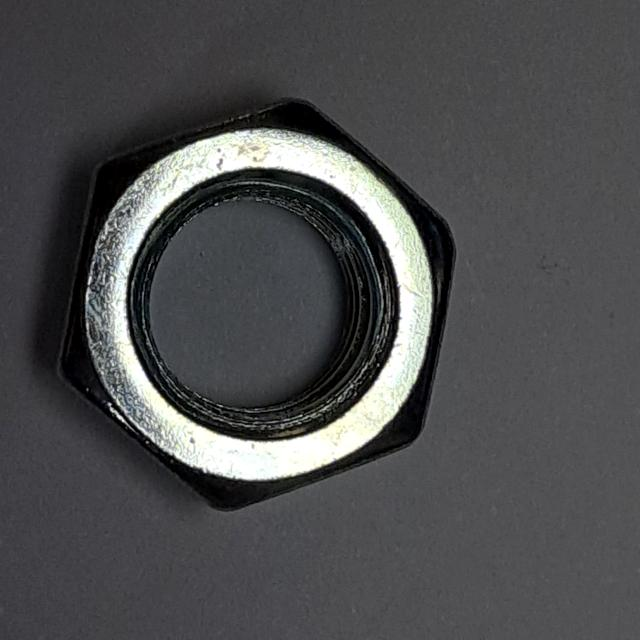Excellent: (40, 87, 471, 522)
